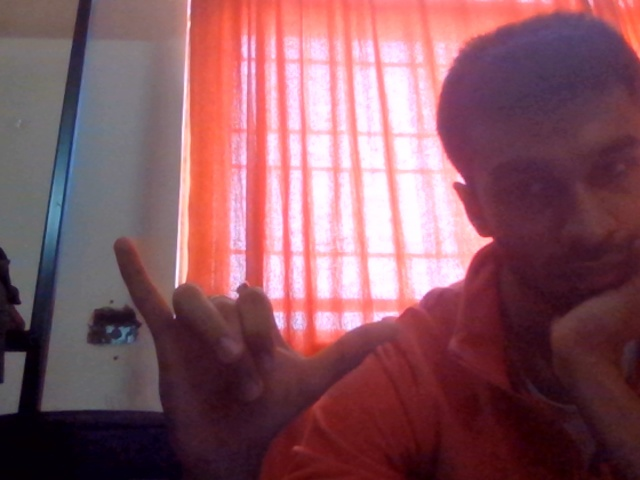Y: (58, 196, 464, 480)
